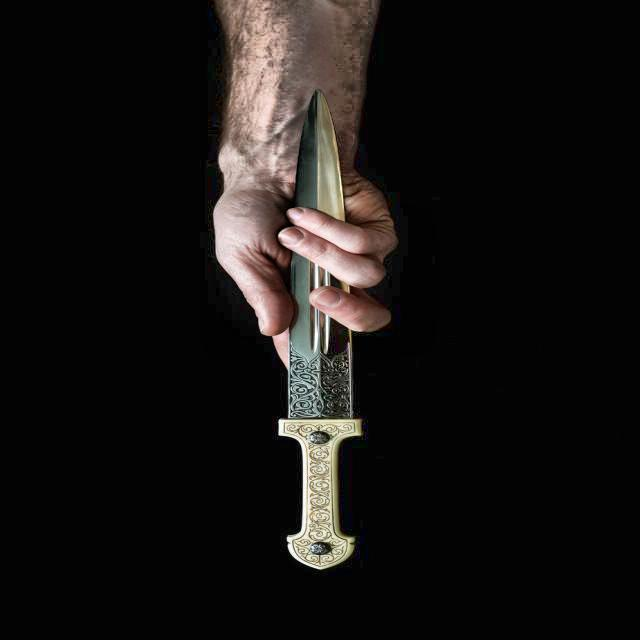knife: (272, 86, 366, 578)
